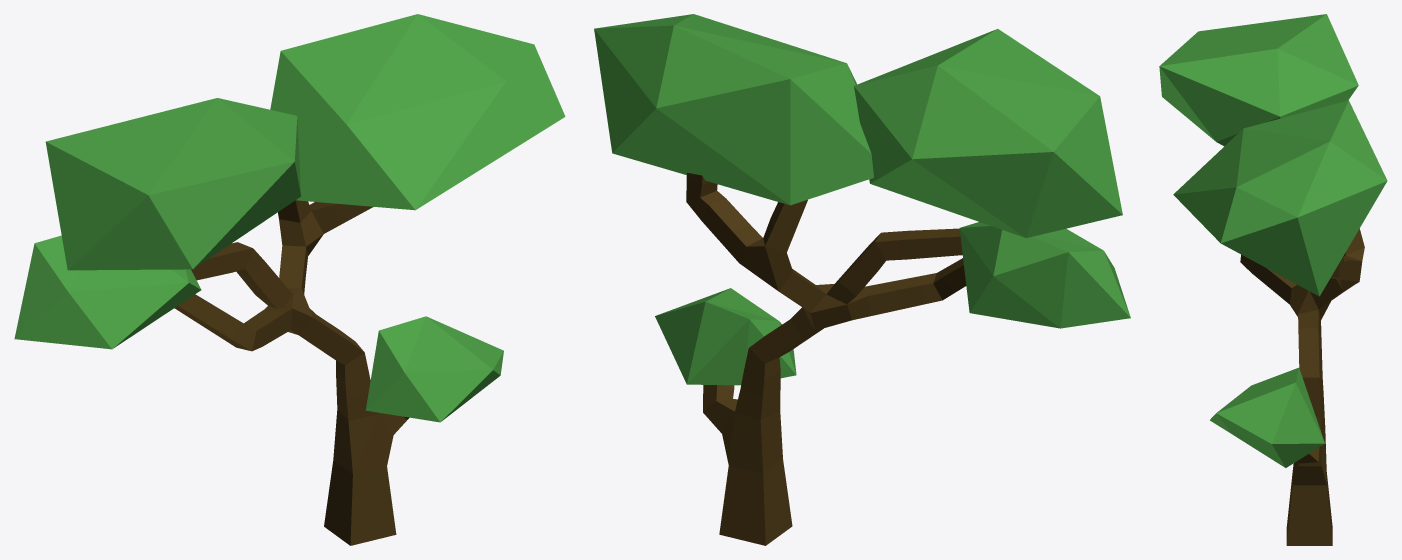
File: FUSE TREE #1.fbx
3 renders of one model, left to right at view 1: azimuth 30°, elevation 25°; view 2: azimuth 150°, elevation 25°; view 3: azimuth 270°, elevation 25°, orthographic. The views are drawn at different scales.
Visible parts, largest first — view 1: Icosphere.003, Icosphere, Cube, Icosphere.001, Icosphere.002; view 2: Icosphere, Icosphere.003, Cube, Icosphere.001, Icosphere.002; view 3: Icosphere.003, Icosphere, Cube, Icosphere.002.
Part boxes in pixels (x1,y1,x2,y2): Icosphere.003: [270, 14, 565, 210]; Icosphere: [45, 98, 300, 270]; Cube: [174, 200, 409, 545]; Icosphere.001: [14, 235, 201, 349]; Icosphere.002: [365, 316, 503, 422]; Icosphere: [854, 29, 1122, 238]; Icosphere.003: [594, 14, 873, 205]; Cube: [686, 173, 966, 545]; Icosphere.001: [959, 222, 1130, 328]; Icosphere.002: [655, 288, 796, 385]; Icosphere.003: [1173, 100, 1387, 296]; Icosphere: [1159, 14, 1358, 146]; Cube: [1240, 228, 1364, 545]; Icosphere.002: [1210, 367, 1324, 467].
Size of the model in its own units: 1640 by 1465 by 714.
